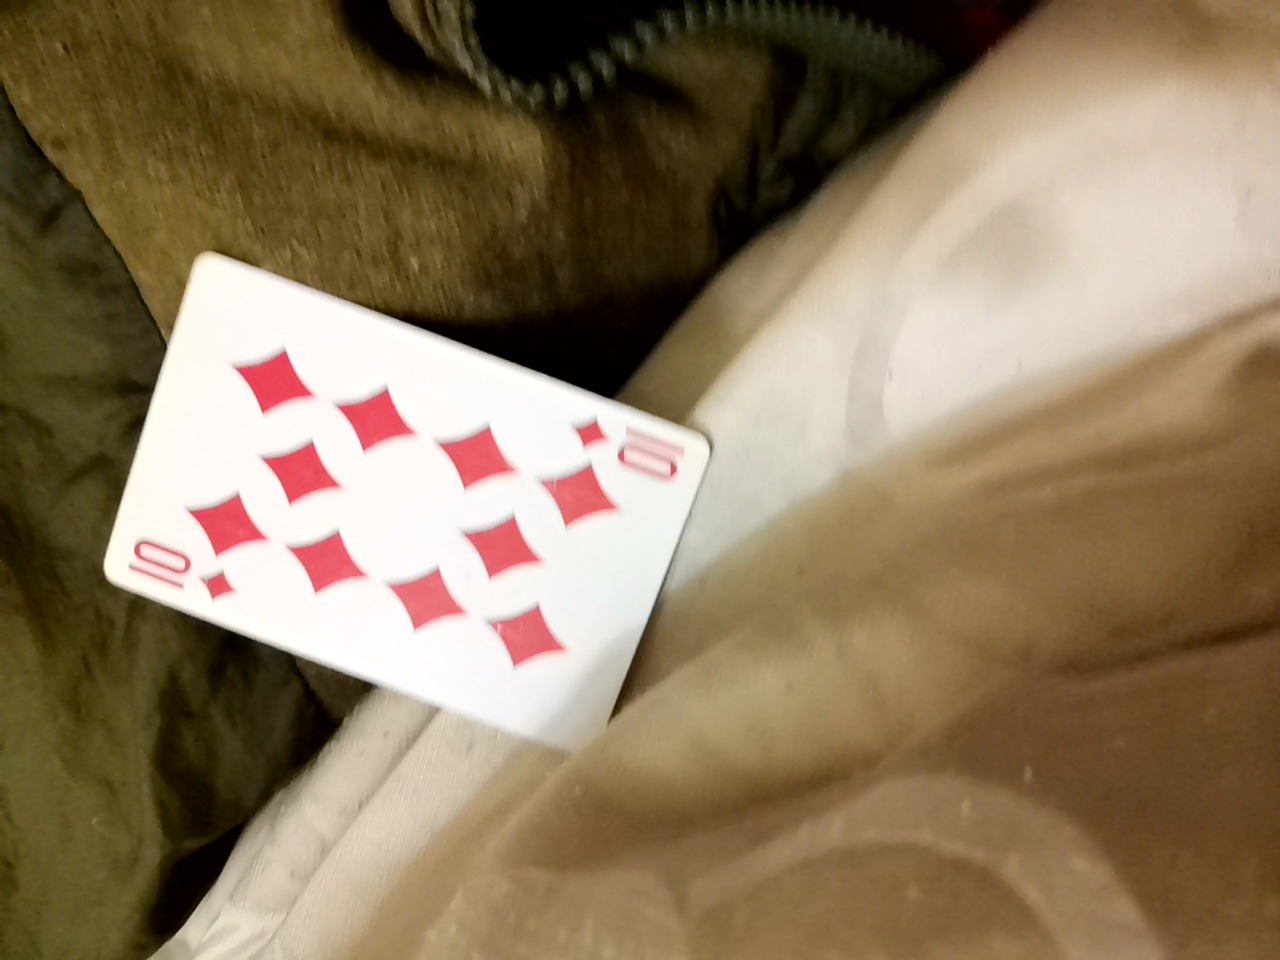fk 10: (51, 324, 683, 836)
